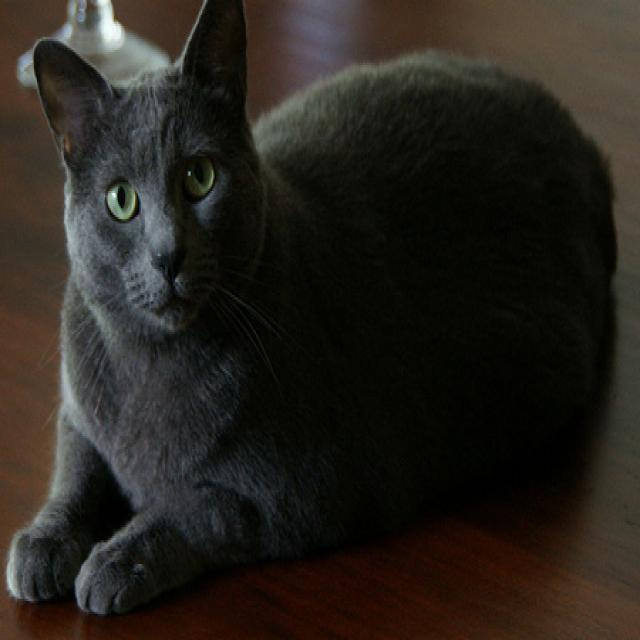Russian Blue: (4, 0, 619, 625)
